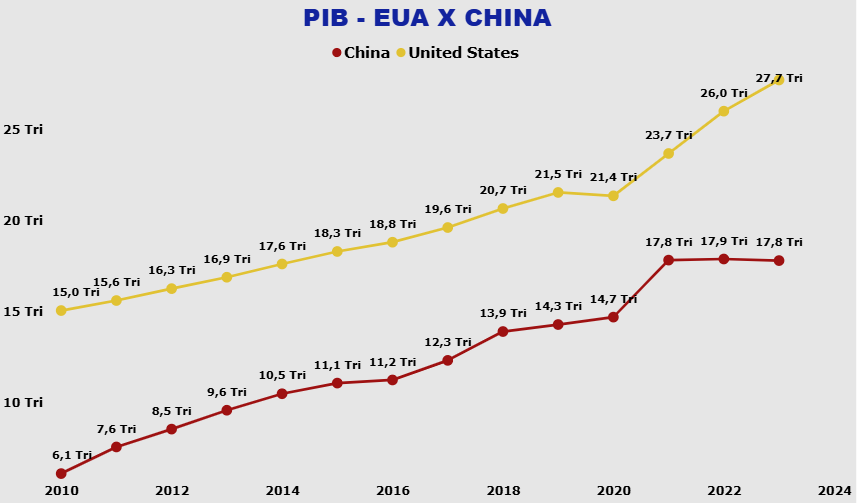

Layout of this report page (visuals, bound fields, positions):
{"tool":"powerbi","page":{"name":"PIB - EUA X CHINA","canvas":[1280,720],"ordinal":3},"visuals":[{"type":"lineChart","title":"PIB - EUA X CHINA","fields":{"Series":["indicadores.country_name"],"Category":["indicadores.year"],"Y":["Sum(indicadores.PIB Ajustado)"]},"box":[167.9,80.9,941.7,557.3],"z":0}]}

Visuals, with their boxes on the page's 1280x720 design canvas (x1, y1, x2, y2). These are canvas units, not pixel positions in the 858x503 screenshot, which may show the page scaled, cropped or inside an application window:
"PIB - EUA X CHINA" lineChart: [left=168, top=81, right=1110, bottom=638]
